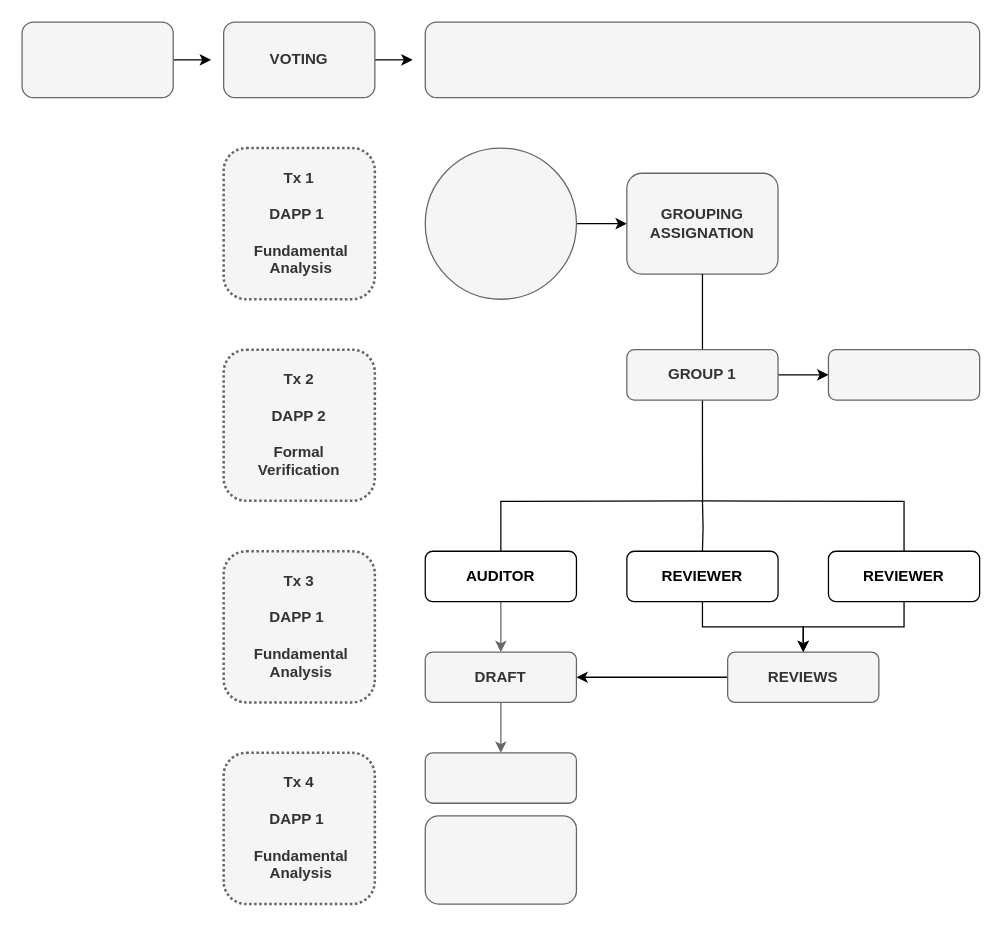
This 1002x927 diagram has some shape labels left out. Each missing label, with the centre of its shape:
"AUDITING" goes at [702,59].
"AUDITOR POOL" goes at [500,223].
"DAPP 1" goes at [903,374].
"FINAL REPORT" goes at [500,777].
"Report of Fundamental Analysis" goes at [500,859].
"WAITING" goes at [97,59].
